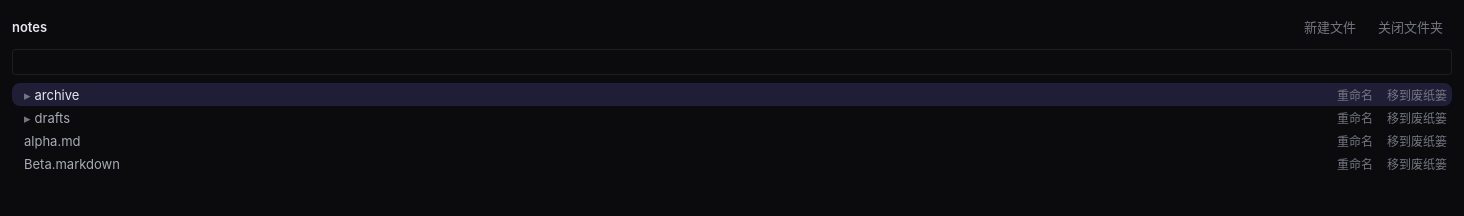
FileSidebar › moves an entry to the trash and leaves the tree unchanged when trashing fails
expect the list item "alpha.md" is shown: met, box x1=12 y1=129 x2=1452 y2=152
Step 1. Click the button "移到废纸篓" in the row of "Beta.markdown" → (1417, 164), box x1=1382 y1=154 x2=1452 y2=173
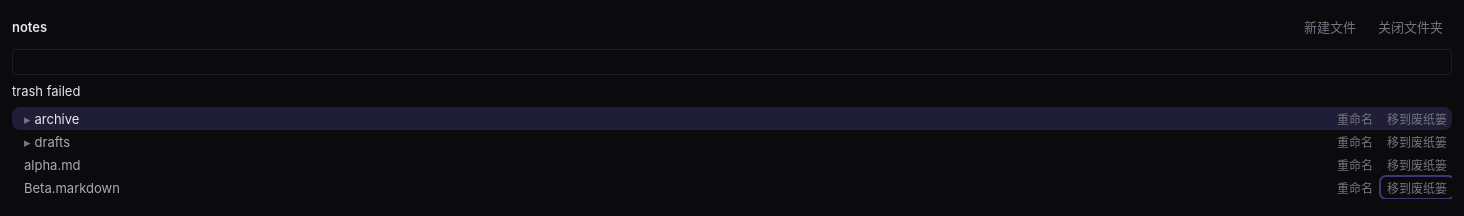
expect the list item "Beta.markdown" is shown: met, box x1=12 y1=176 x2=1452 y2=199
expect the message reads "trash failed": met, box x1=12 y1=83 x2=80 y2=99
Step 2. Click the button "移到废纸篓" in the row of "alpha.md" → (1417, 164), box x1=1382 y1=155 x2=1452 y2=174
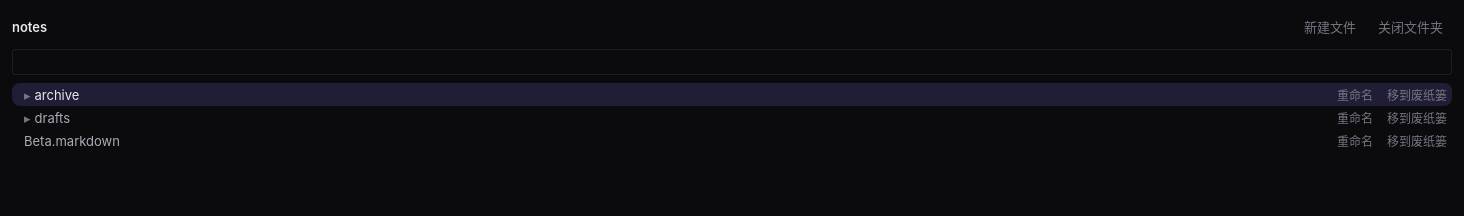
expect the text "alpha.md" is gone: met
